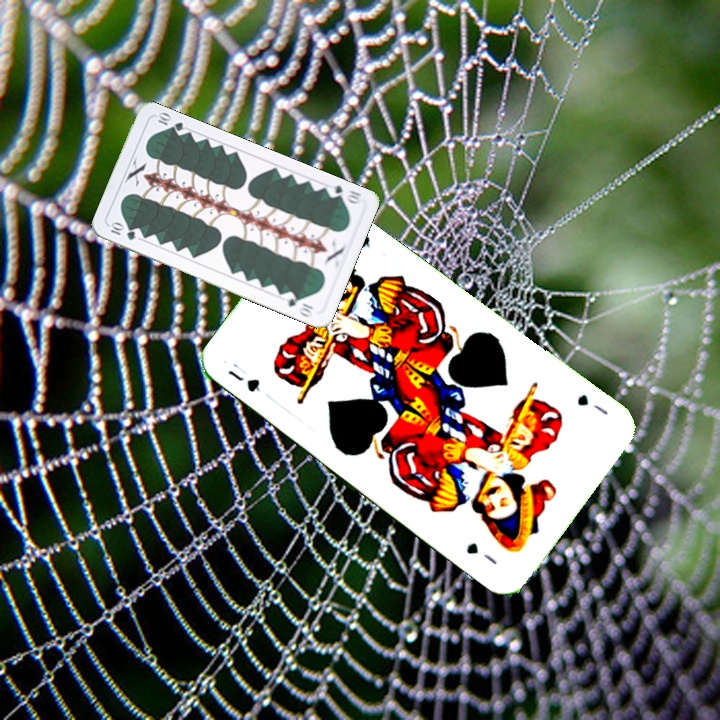G10: (323, 181, 364, 206), (106, 219, 139, 243)
GU: (223, 366, 263, 395), (573, 390, 611, 418)
